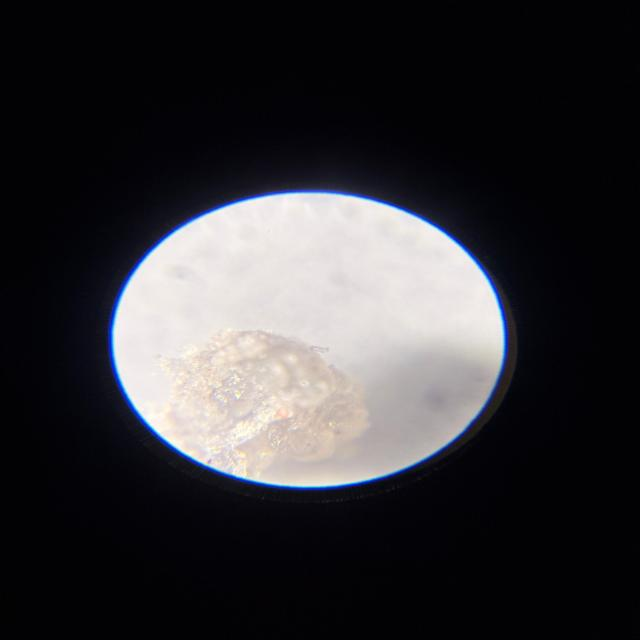microplastic_type_1: (153, 329, 369, 481)
